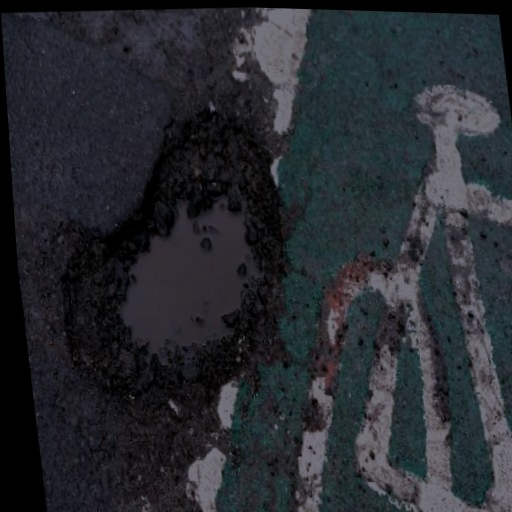pothole: (38, 97, 312, 424)
